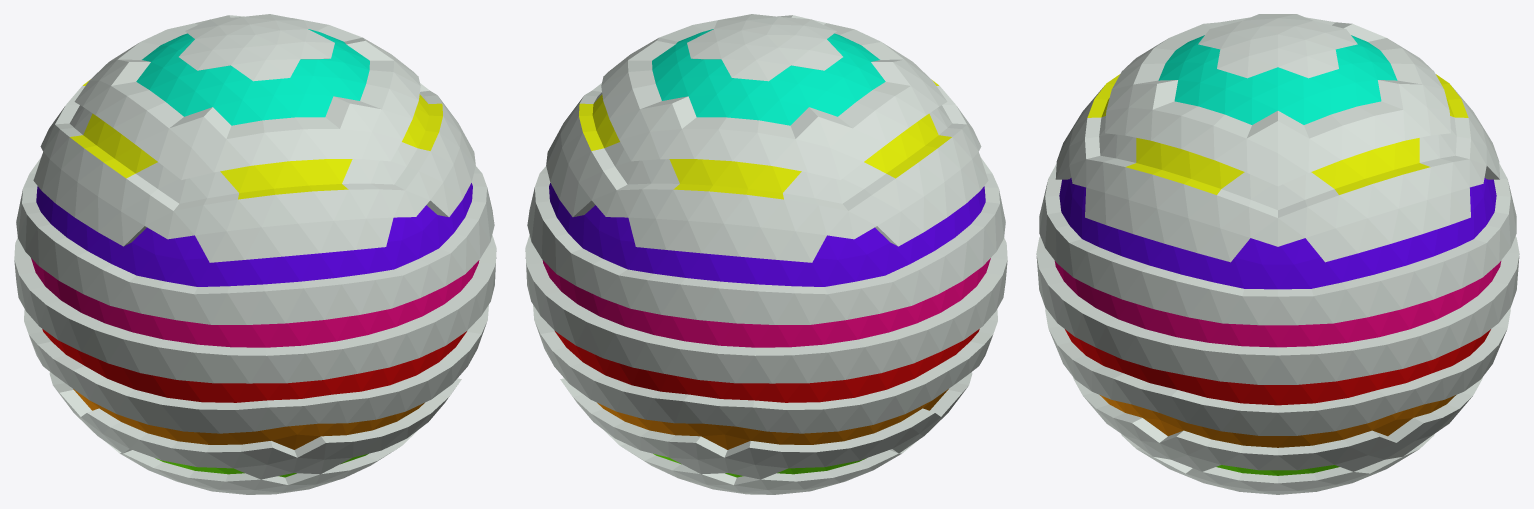
Rendered from rainbow.fbx.
The picture shows the model from 3 angles, left to right: view 1: azimuth 30°, elevation 25°; view 2: azimuth 150°, elevation 25°; view 3: azimuth 270°, elevation 25°; orthographic projection.
Parts seen in each view (by area): view 1: Icosphere; view 2: Icosphere; view 3: Icosphere.
Boxes of the visible parts, bbox=[...] form: Icosphere: bbox=[14, 14, 496, 494]; Icosphere: bbox=[525, 14, 1007, 494]; Icosphere: bbox=[1036, 14, 1519, 494].
Size of the model in its own units: 745 by 745 by 745.
